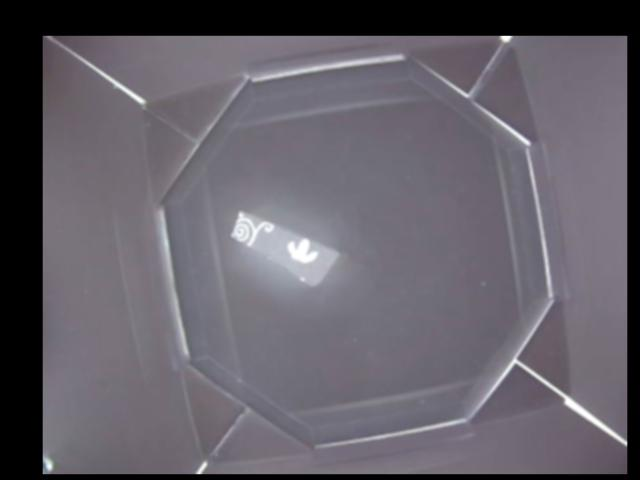China: (231, 209, 340, 285)
